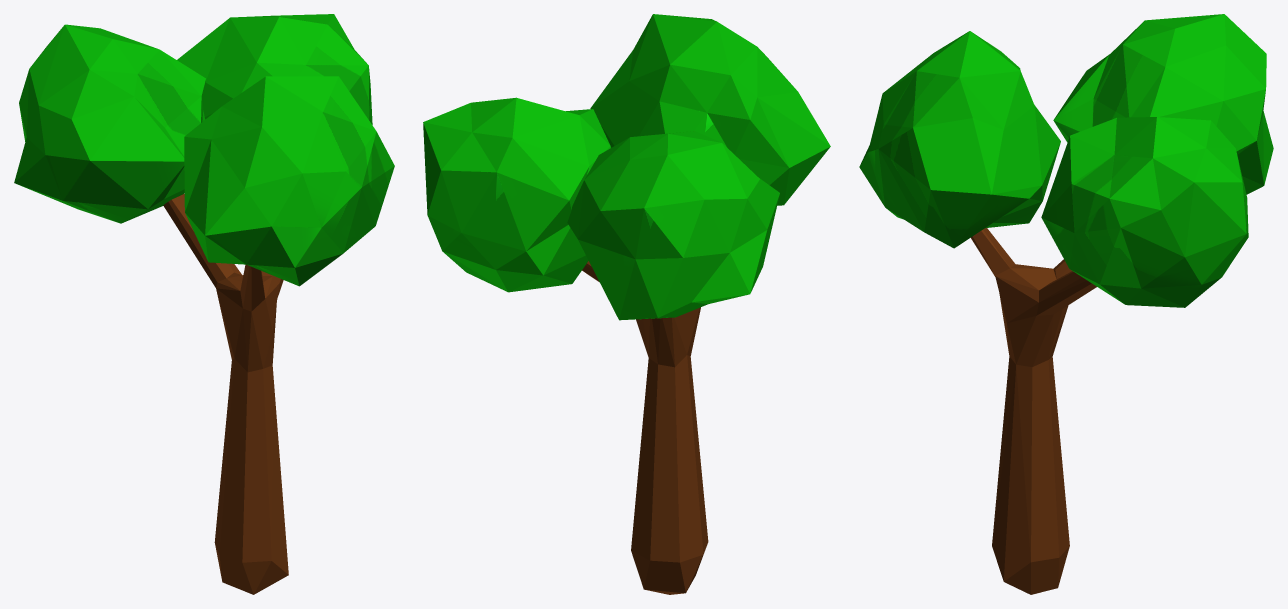
File: tree4.fbx
The picture shows the model from 3 angles, left to right: view 1: azimuth 30°, elevation 25°; view 2: azimuth 150°, elevation 25°; view 3: azimuth 270°, elevation 25°; orthographic projection. The views are drawn at different scales.
Visible parts, largest first — view 1: Икосфера; view 2: Икосфера; view 3: Икосфера.
Boxes of the visible parts, x1,y1,x2,y2 form: Икосфера: [14, 14, 394, 594]; Икосфера: [423, 14, 830, 594]; Икосфера: [859, 14, 1273, 594].
Size of the model in its own units: 380 by 608 by 411.
Materials: 1 (1 with a texture image).
